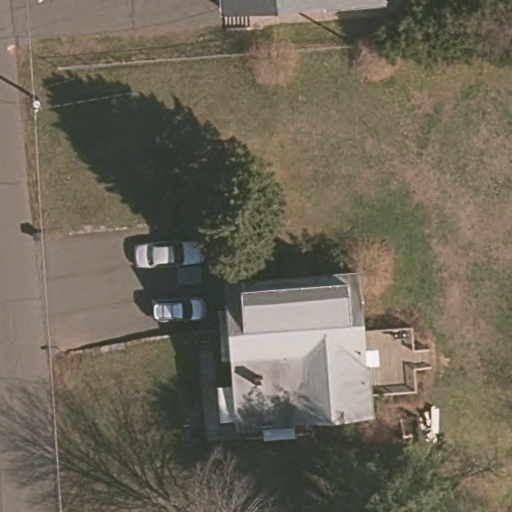DT: (18, 85, 52, 121)
